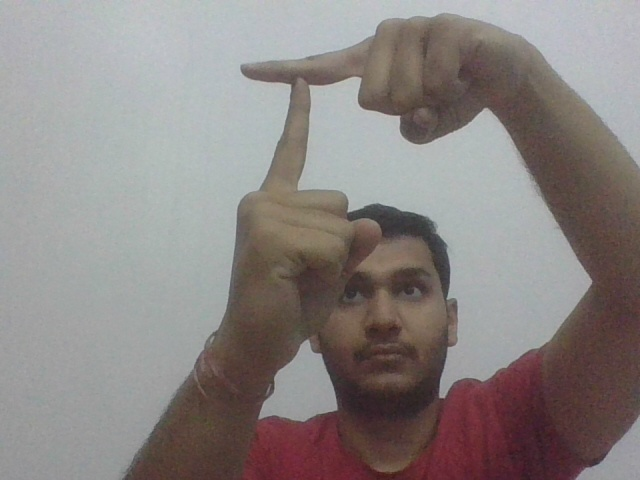T: (236, 49, 357, 188)
